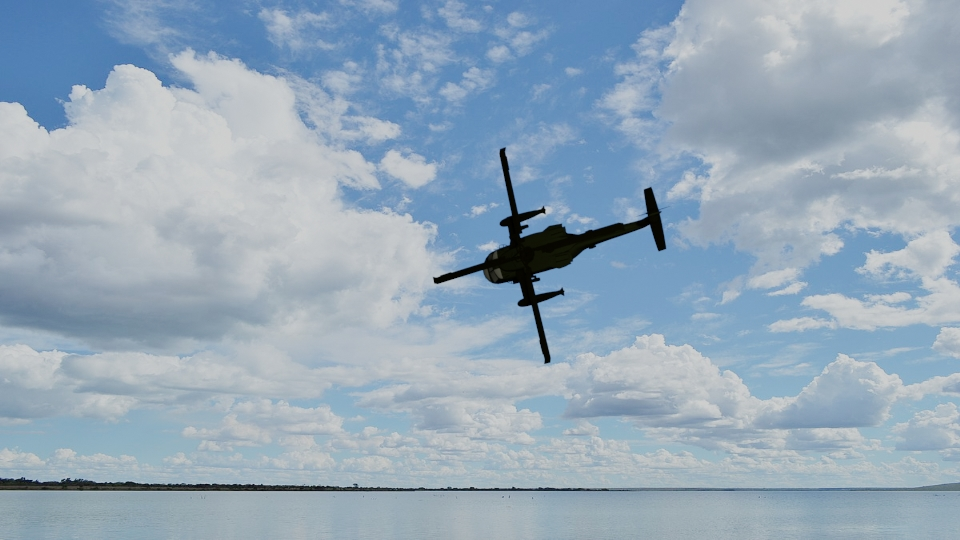heli: (432, 146, 665, 361)
